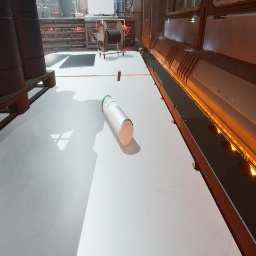0: (102, 95, 134, 146)
FireExtinguisher ]: (103, 14, 111, 16)
NitrogenTank ,: (73, 13, 86, 18), (36, 1, 36, 3)
